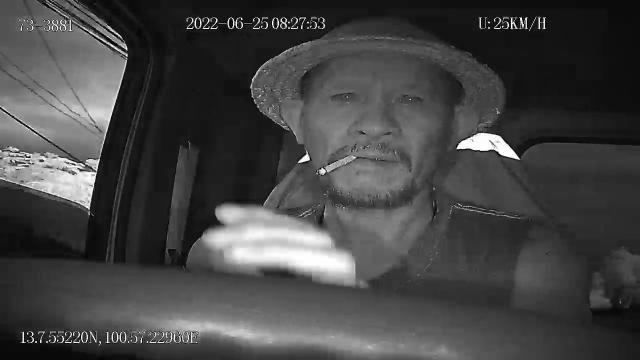SafeDriving: (386, 83, 429, 114), (324, 81, 364, 108)
Smoking: (319, 154, 357, 176)
